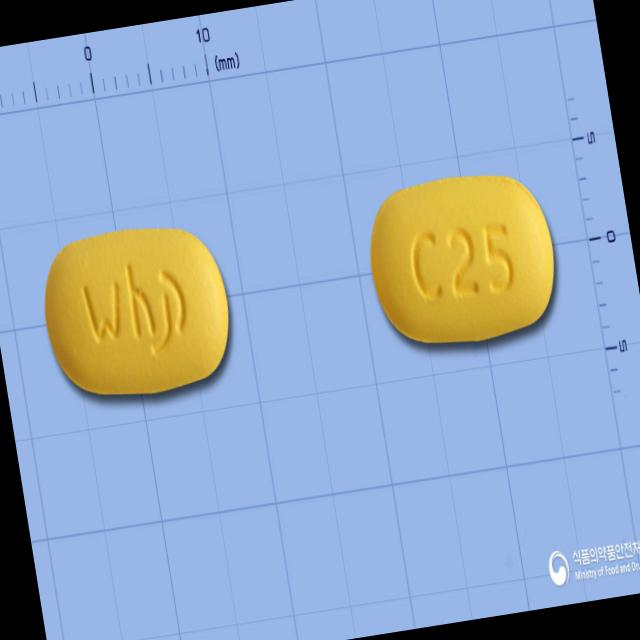Claton: (358, 158, 570, 362), (31, 212, 243, 410)
